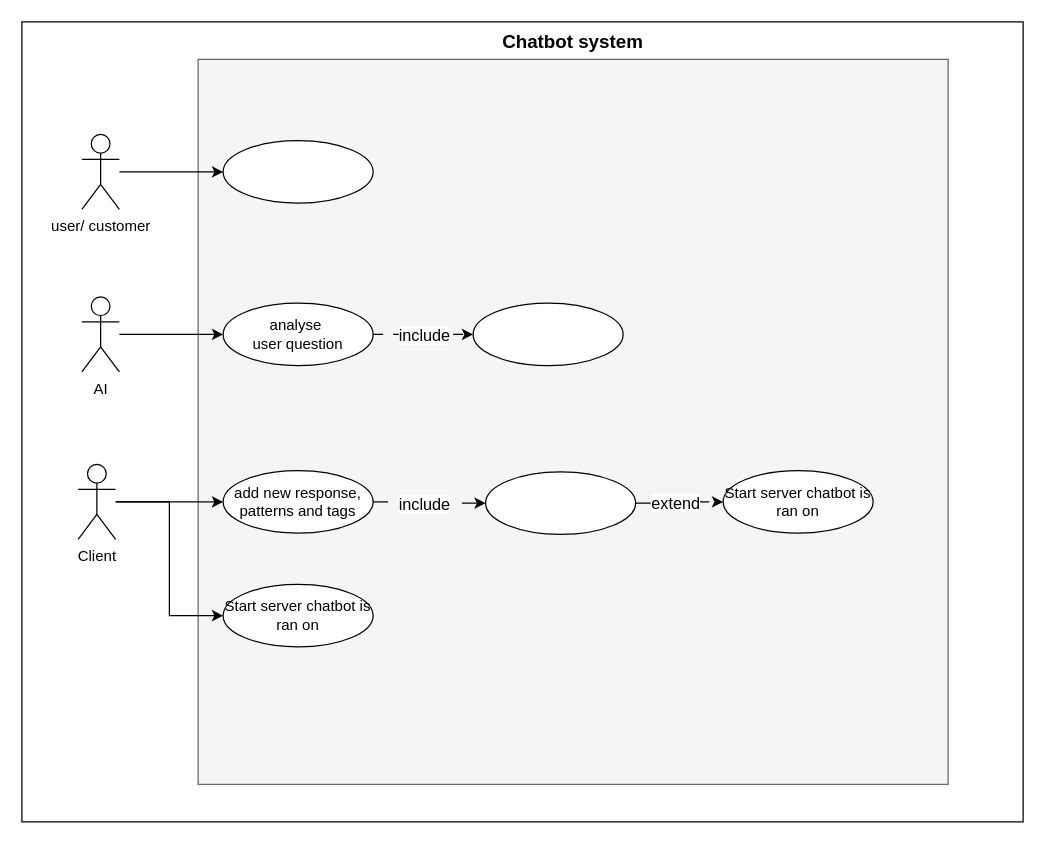
This 1045x844 diagram has some shape labels left out. Each missing label, with the centre of its shape:
Process user question: the point at 547,334
Run the training program: the point at 560,502
type question to chatbot: the point at 297,171
